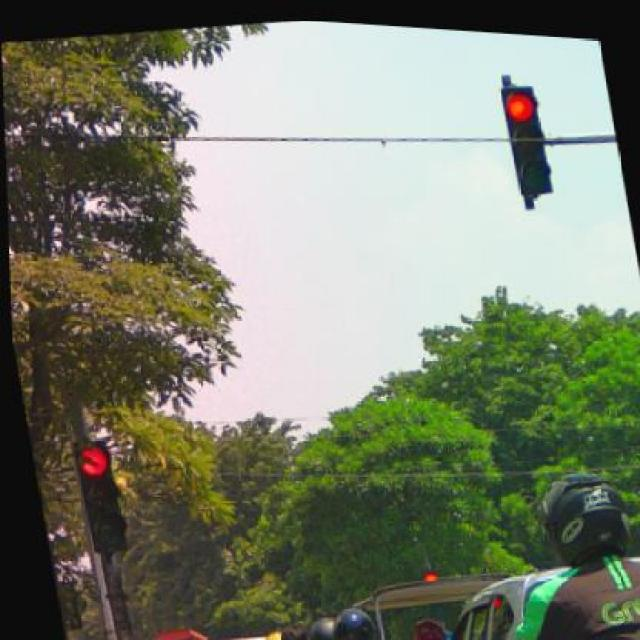red_light: (68, 435, 124, 557), (500, 75, 554, 190)
